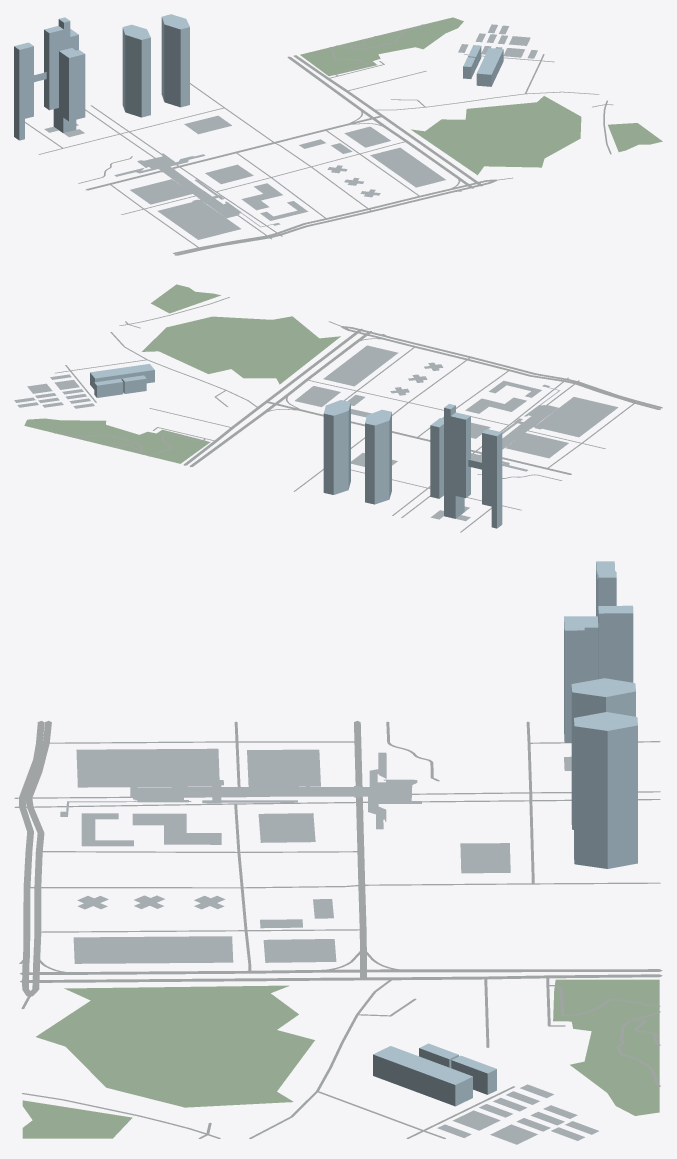
File: -9_4-known-coarse.glb
3 renders of one model, top to bottom at view 1: azimuth 30°, elevation 25°; view 2: azimuth 150°, elevation 25°; view 3: azimuth 270°, elevation 25°, orthographic. The views are drawn at different scales.
Bounding box in the file's own units: 1019 × 212 × 659.
